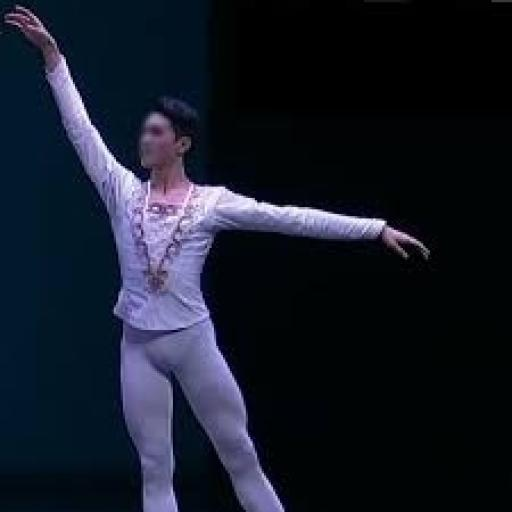dancing: (0, 2, 437, 510)
